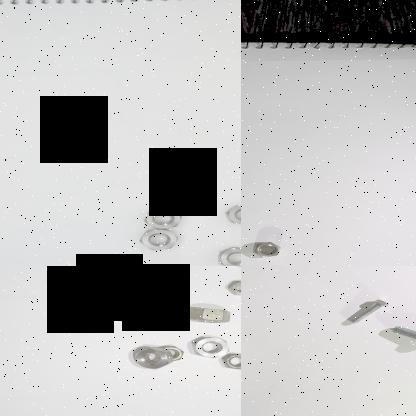Bolts: (332, 296, 393, 328), (385, 321, 416, 349)
NUTS: (126, 345, 174, 373), (132, 227, 179, 252), (176, 304, 232, 324), (102, 300, 148, 324), (189, 334, 231, 359), (140, 206, 182, 230), (134, 266, 172, 287), (95, 272, 131, 294), (209, 244, 241, 266), (157, 340, 186, 364), (252, 241, 282, 260), (223, 202, 241, 227), (219, 277, 241, 297), (220, 352, 241, 372), (147, 266, 183, 270)
